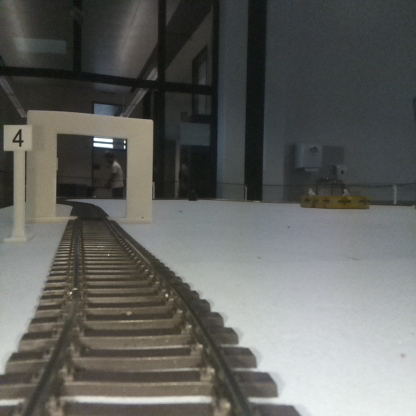white-info-4: (3, 124, 32, 243)
